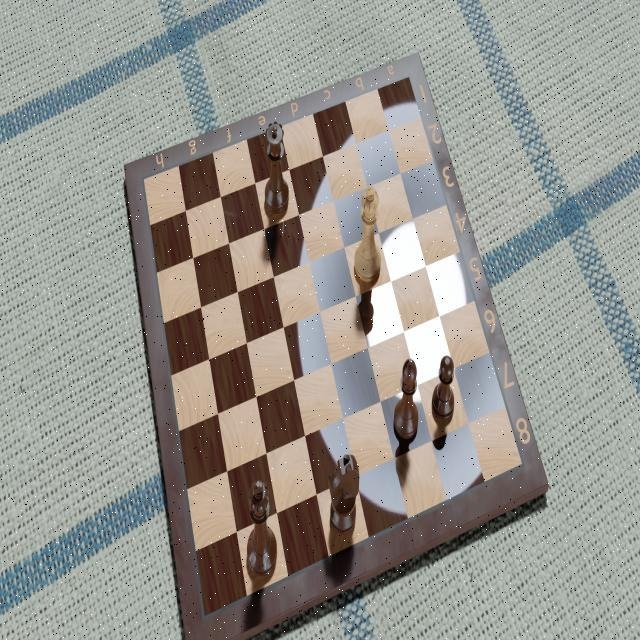black-bishop: (392, 354, 422, 445)
black-king: (242, 479, 278, 584)
black-knight: (326, 446, 362, 538)
black-pawn: (431, 354, 459, 426)
black-queen: (262, 121, 292, 221)
white-king: (351, 183, 384, 290)
